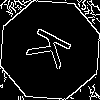K: (25, 25, 82, 77)
